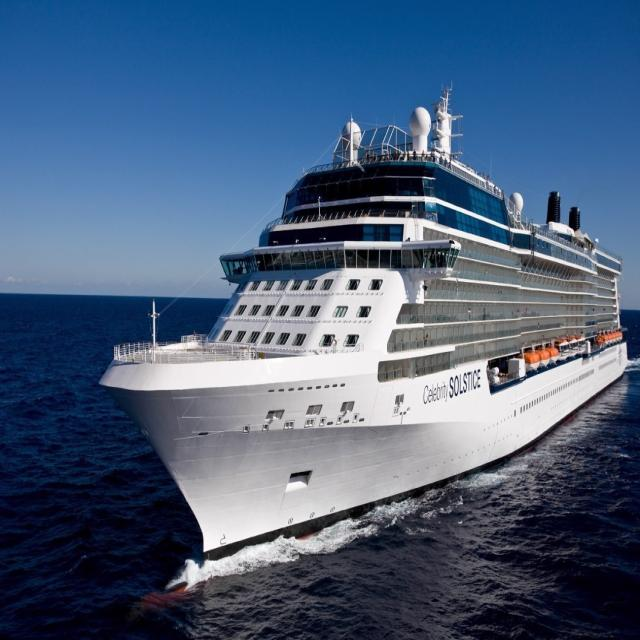passenger ship: (107, 99, 628, 554)
